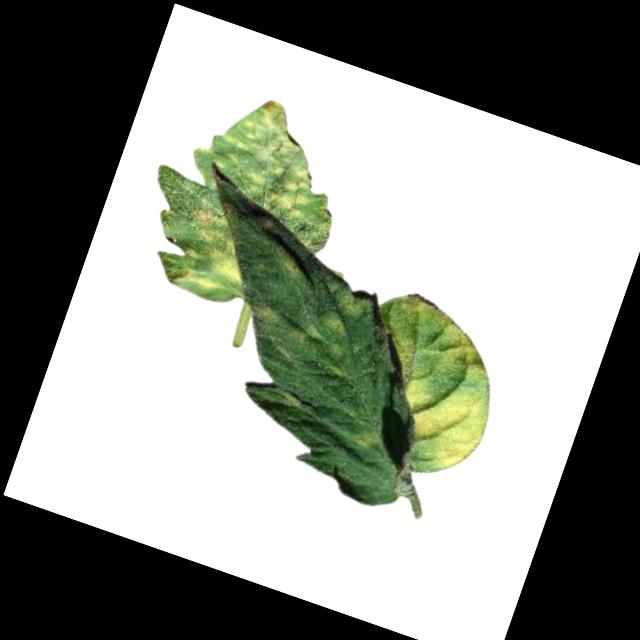Leaf_Mold: (202, 86, 341, 227), (386, 291, 510, 391), (384, 371, 497, 477), (168, 196, 266, 305), (287, 304, 355, 360), (267, 242, 315, 281), (330, 287, 372, 325), (350, 413, 389, 453), (249, 300, 285, 333)
